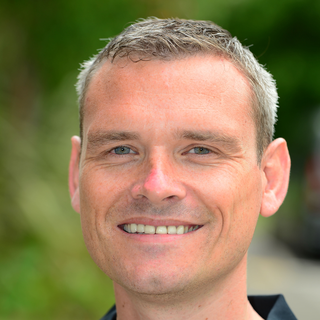eye: (172, 139, 222, 161), (99, 139, 142, 161)
